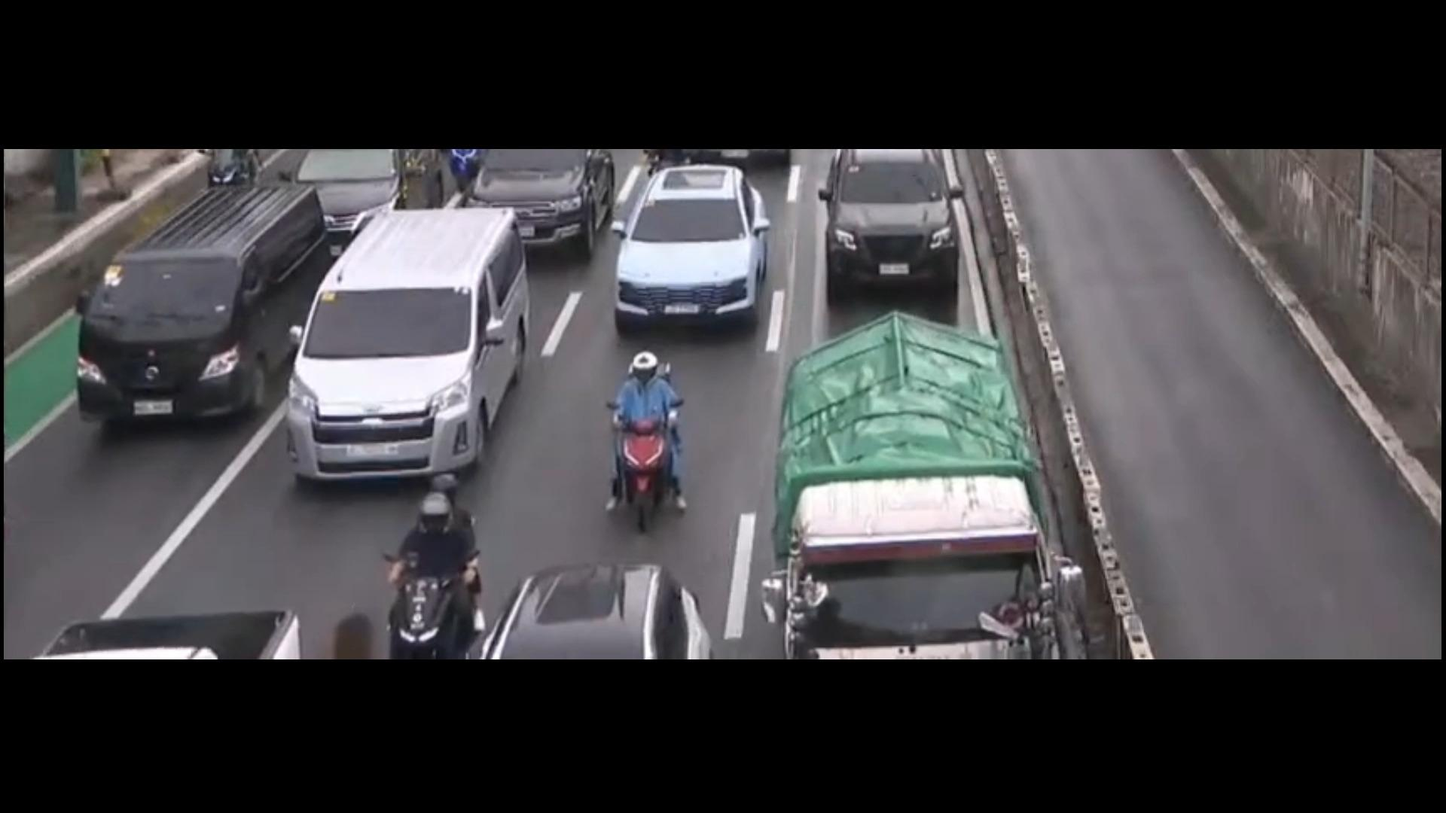Motorcycle: (363, 475, 494, 660), (583, 345, 705, 536), (187, 155, 268, 186)
SUV: (601, 158, 782, 362), (817, 156, 967, 308)
Truck: (733, 315, 1099, 659)
Van: (250, 181, 560, 511), (59, 162, 346, 445)
